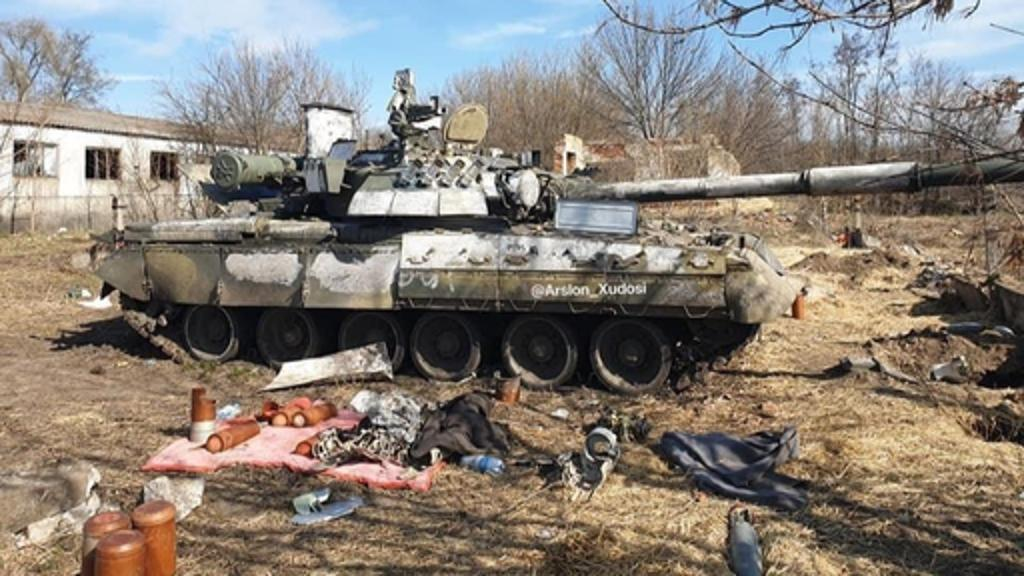TANK: (82, 122, 1016, 394)
